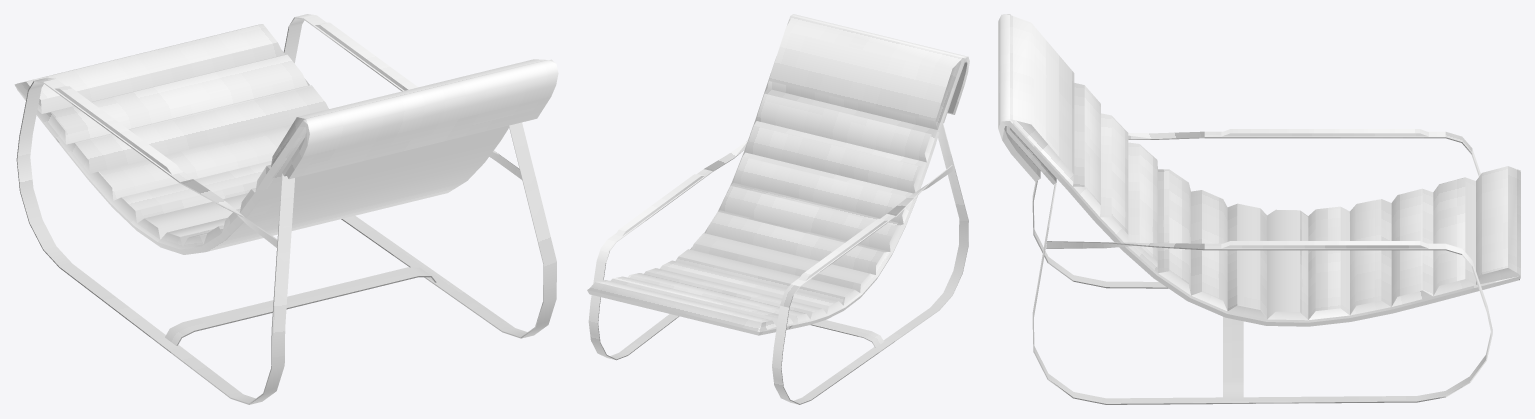
The model's file is LoungeChair.glb.
3 renders of one model, left to right at view 1: azimuth 30°, elevation 25°; view 2: azimuth 150°, elevation 25°; view 3: azimuth 270°, elevation 25°, orthographic. The views are drawn at different scales.
Visible parts, largest first — view 1: LoungeChair; view 2: LoungeChair; view 3: LoungeChair.
Part boxes in pixels (bbox=[...]): LoungeChair: bbox=[14, 14, 558, 404]; LoungeChair: bbox=[587, 14, 969, 404]; LoungeChair: bbox=[998, 14, 1520, 404].
Bounding box in the file's own units: 0.8148 × 0.8593 × 1.47.
1 material, 1 textured.
